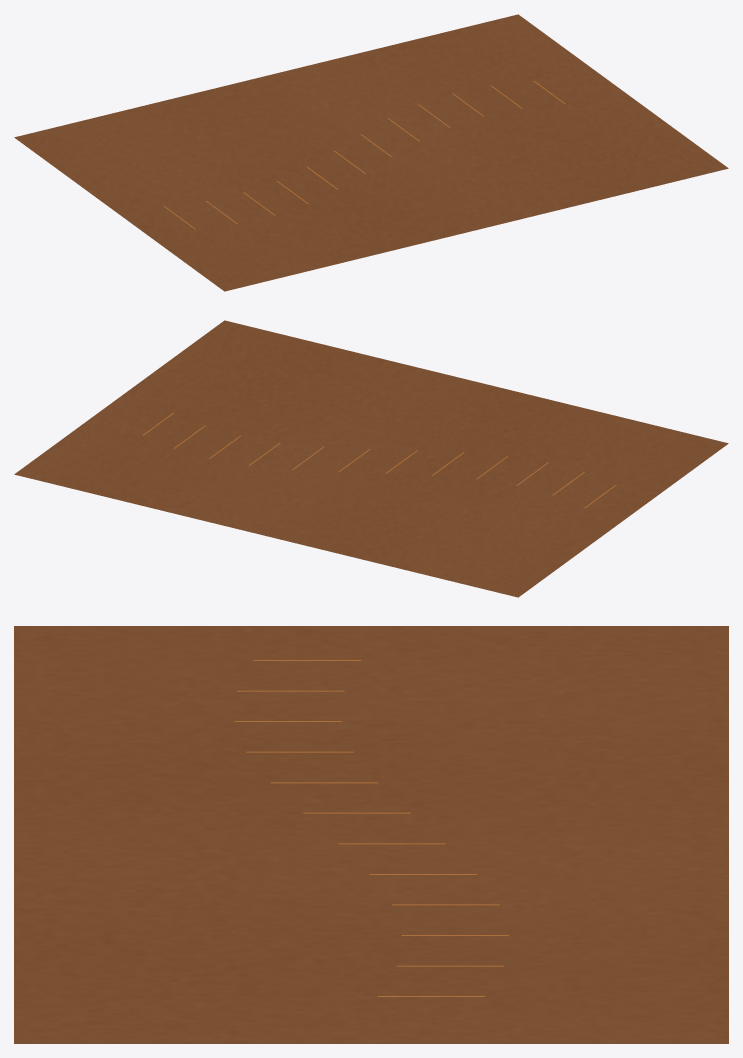
The model's file is 276_L120_L11_LayerReference.obj.
3 renders of one model, top to bottom at view 1: azimuth 30°, elevation 25°; view 2: azimuth 150°, elevation 25°; view 3: azimuth 270°, elevation 25°, orthographic. The views are drawn at different scales.
Visible parts, largest first — view 1: 276_L120_L11_LayerReference; view 2: 276_L120_L11_LayerReference; view 3: 276_L120_L11_LayerReference.
Part boxes in pixels (box(x1,y1,x2,y2)): 276_L120_L11_LayerReference: box(14, 14, 728, 291); 276_L120_L11_LayerReference: box(14, 320, 728, 597); 276_L120_L11_LayerReference: box(14, 626, 728, 1043).
Size of the model in its own units: 0.506 by 0.000154 by 0.366.
Materials: 2 (2 with a texture image).
